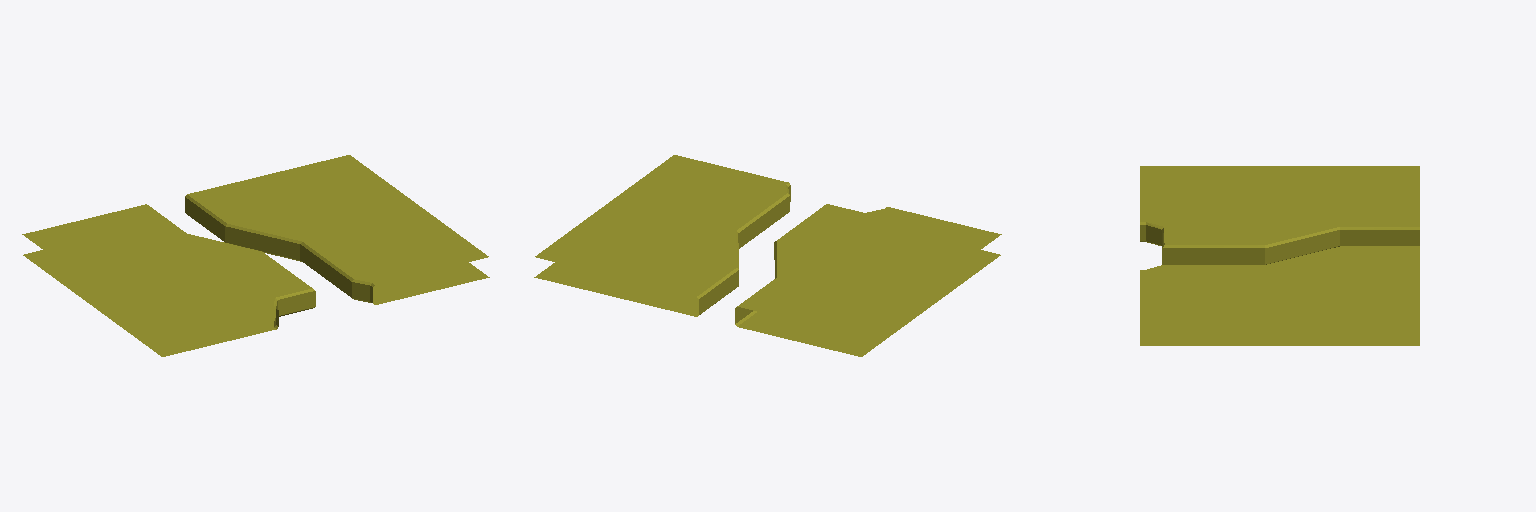
Rendered from ElevatorDoor-lm.obj.
3 renders of one model, left to right at view 1: azimuth 30°, elevation 25°; view 2: azimuth 150°, elevation 25°; view 3: azimuth 270°, elevation 25°, orthographic.
Parts seen in each view (by area): view 1: Box004; view 2: Box004; view 3: Box004.
Boxes of the visible parts, x1=… form: Box004: x1=22, y1=155, x2=489, y2=356; Box004: x1=534, y1=155, x2=1001, y2=356; Box004: x1=1140, y1=166, x2=1419, y2=345.
Size of the model in its own units: 133 by 7.87 by 98.43.